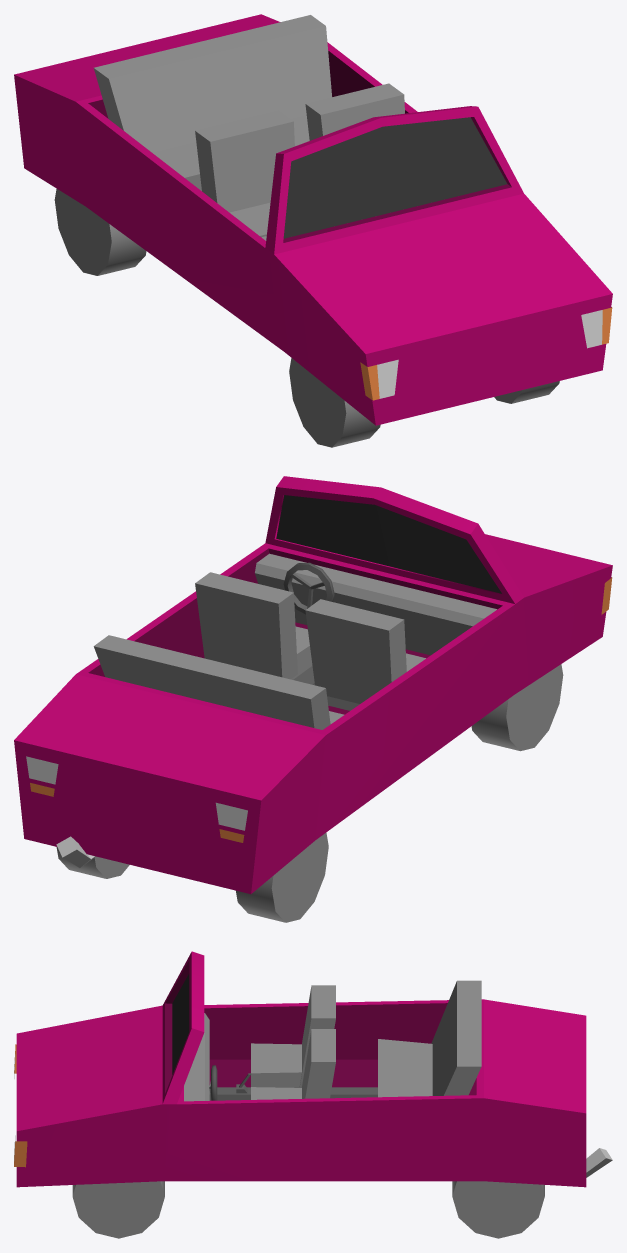
Rendered from cabrio_06.fbx.
The picture shows the model from 3 angles, top to bottom: view 1: azimuth 30°, elevation 25°; view 2: azimuth 150°, elevation 25°; view 3: azimuth 270°, elevation 25°; orthographic projection. The views are drawn at different scales.
Visible parts, largest first — view 1: cabrio_06; view 2: cabrio_06; view 3: cabrio_06.
Part boxes in pixels (box(x1,y1,x2,y2)): cabrio_06: box(14, 14, 612, 447); cabrio_06: box(14, 476, 612, 922); cabrio_06: box(14, 951, 612, 1238).
Bounding box in the file's own units: 1.6 × 1.63 × 4.1.
